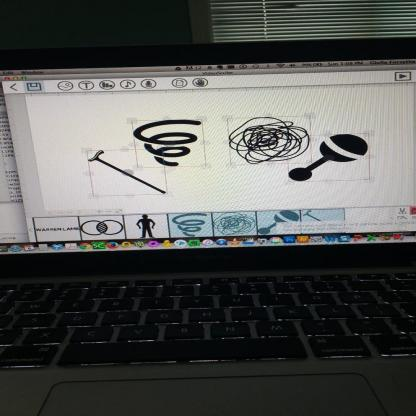board: (1, 28, 416, 416)
